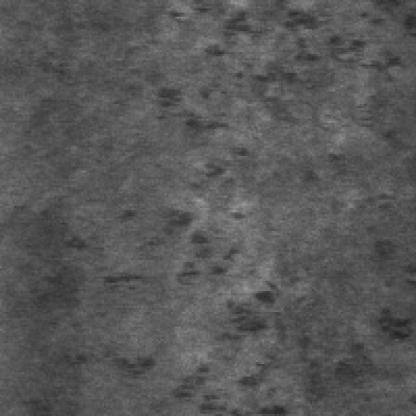rolled-in_scale: (146, 202, 304, 412)
